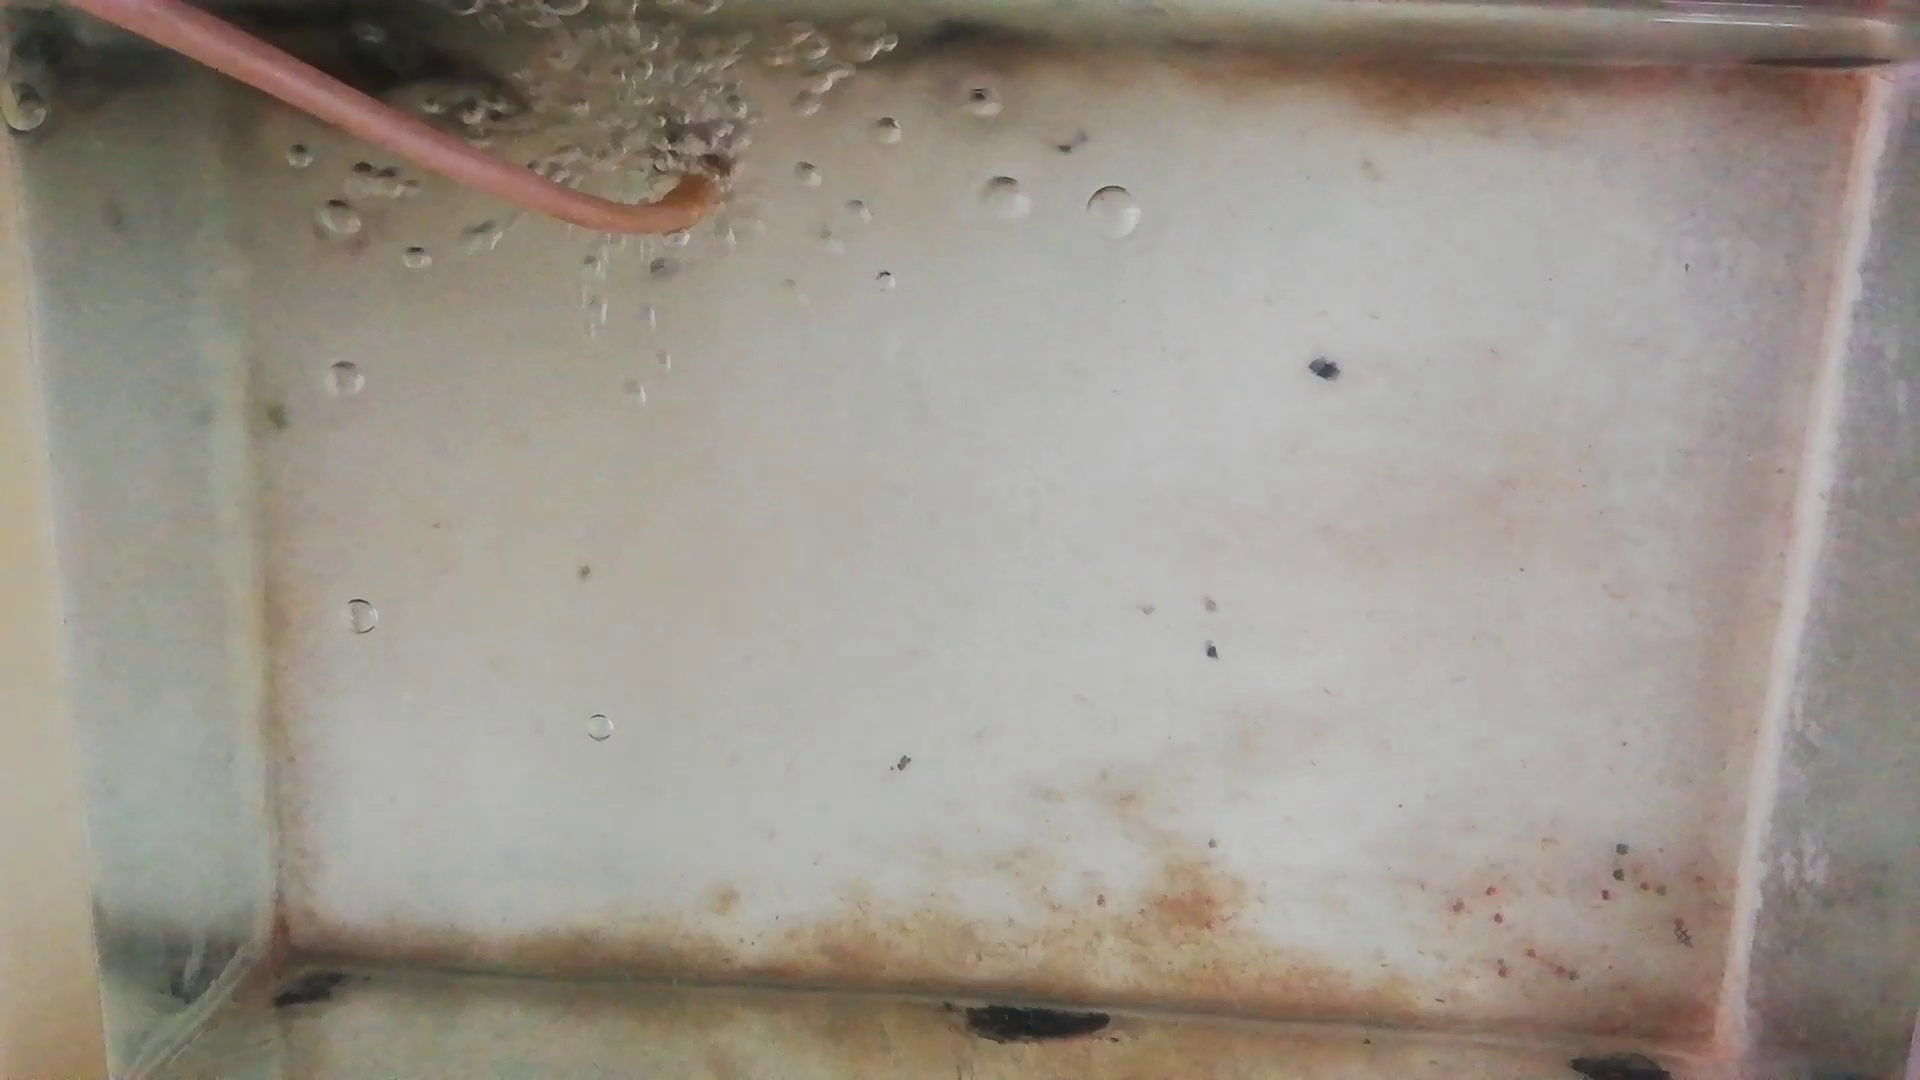fish: (338, 36, 530, 107)
